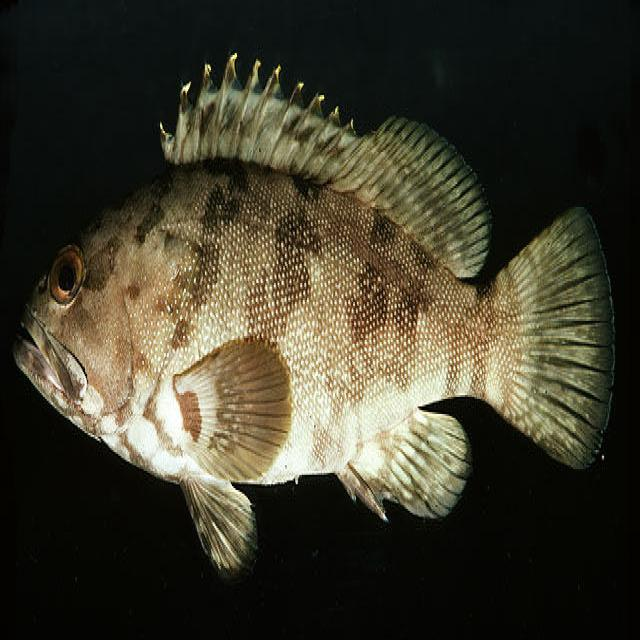ikan: (11, 48, 616, 580)
